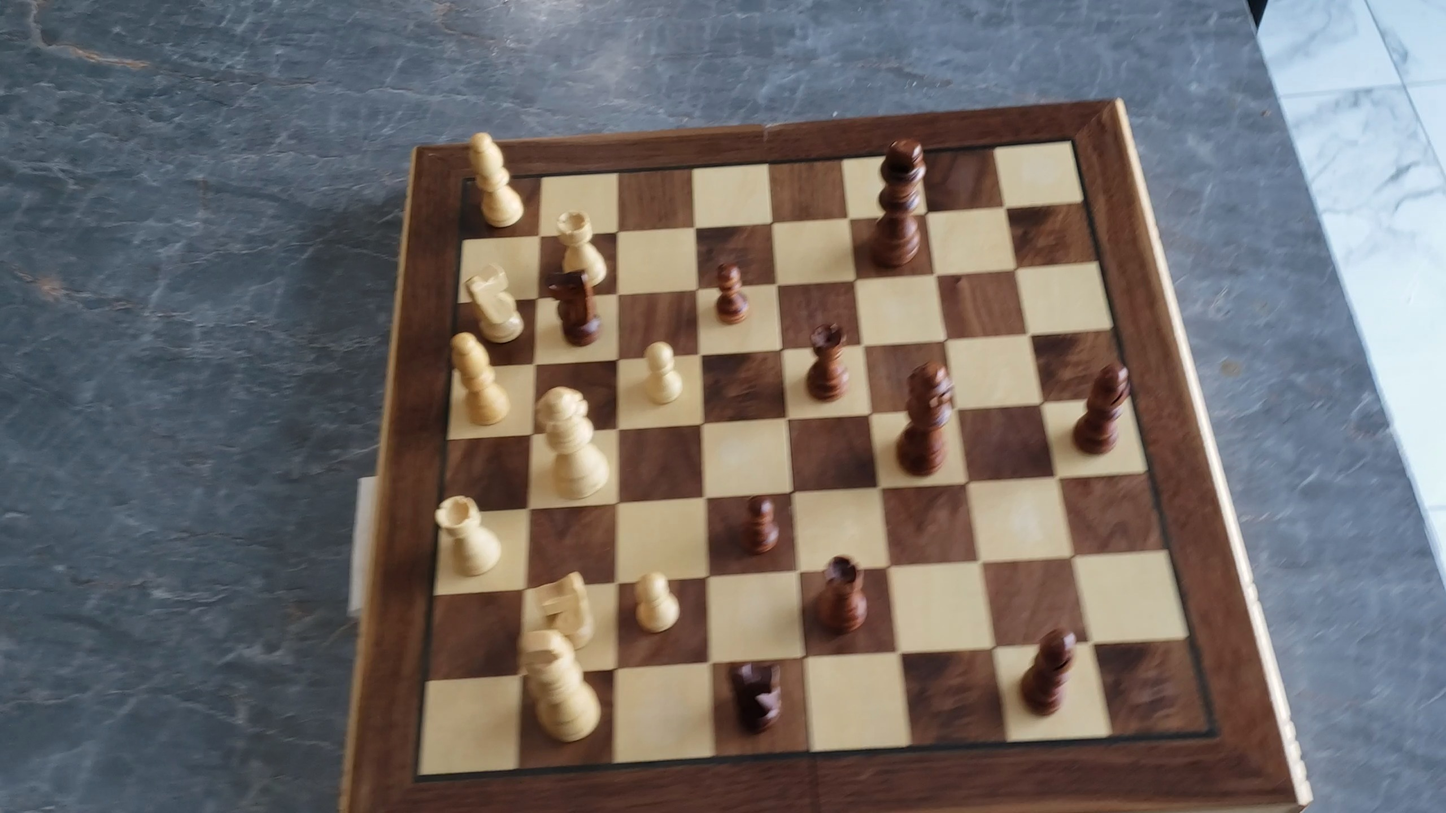black-bishop: (1073, 359, 1134, 461), (1016, 624, 1079, 720)
black-king: (865, 133, 931, 271)
black-knight: (725, 657, 787, 737), (547, 267, 604, 348)
black-pawn: (705, 260, 751, 330), (739, 491, 783, 558)
black-queen: (894, 358, 956, 482)
black-rook: (813, 553, 871, 637), (803, 319, 852, 403)
white-bishop: (462, 126, 526, 233), (446, 330, 513, 429)
white-king: (513, 627, 606, 746)
white-knight: (460, 260, 529, 347), (534, 567, 602, 654)
white-pawn: (629, 566, 685, 637), (639, 338, 688, 409)
white-queen: (529, 384, 614, 497)
white-rook: (432, 492, 506, 580), (554, 207, 610, 291)
